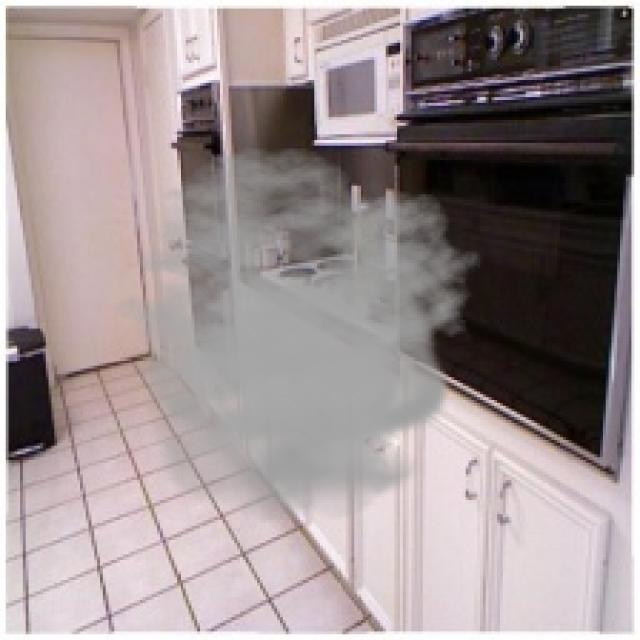smoke: (91, 146, 483, 523)
